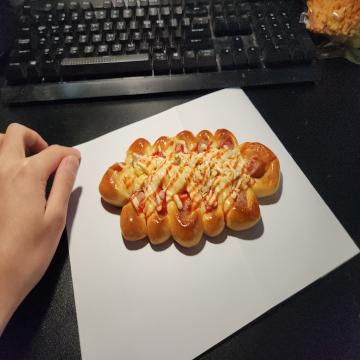pizza_bread: (99, 128, 282, 248)
